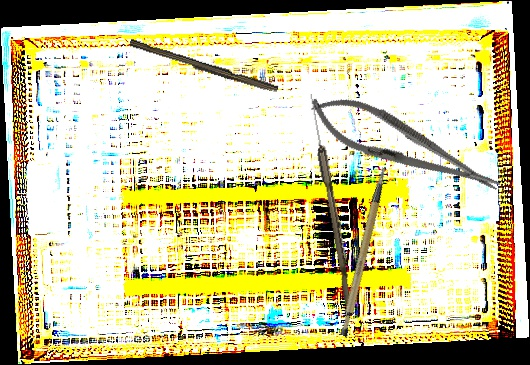Needle Holder: (300, 81, 509, 211)
Scalpel Handle: (317, 166, 414, 339), (127, 38, 280, 96)
Surgical Spoon: (304, 92, 357, 307)
